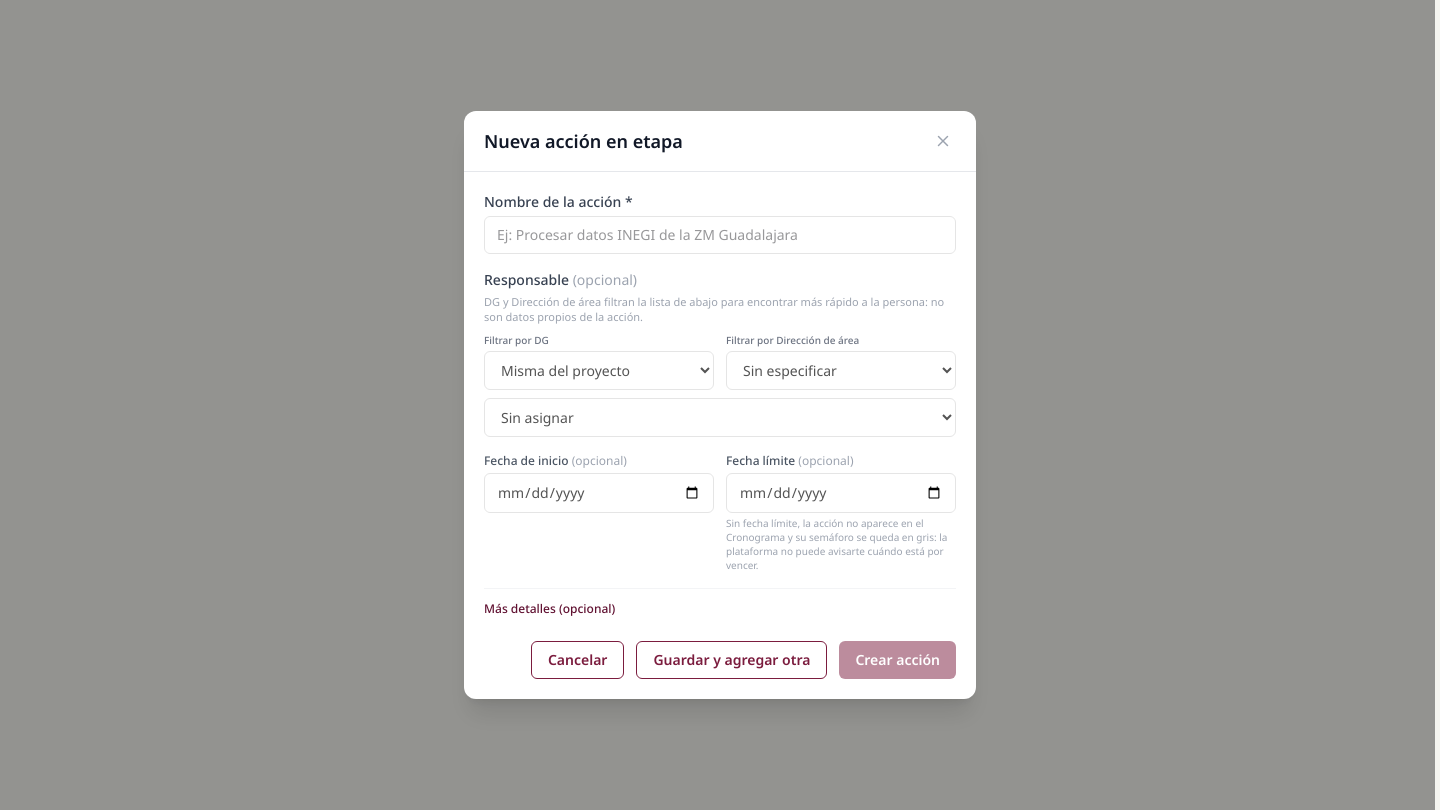
Scenario: ModalNuevaAccion — bloque 2.1 (solo Nombre es obligatorio) › "Más detalles" empieza plegado y no pide Instancia/Enlace responsable en ningún lado
Expected: the text "Descripción" is not shown
Click the button "Más detalles (opcional)".
click(550, 609)  # box [484,601,615,617]
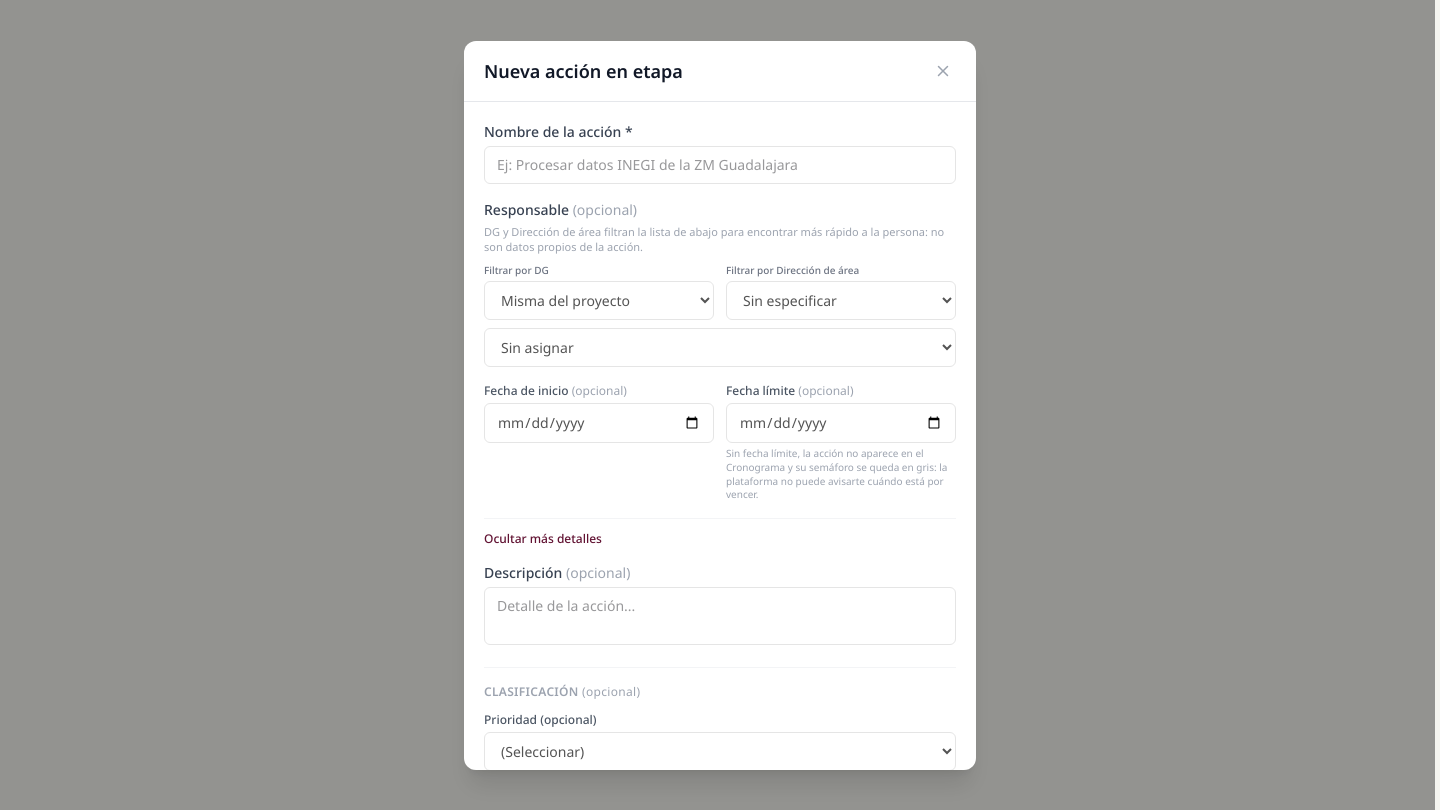
Expected: the text "Descripción (opcional)" is shown, [484,563,630,582]
